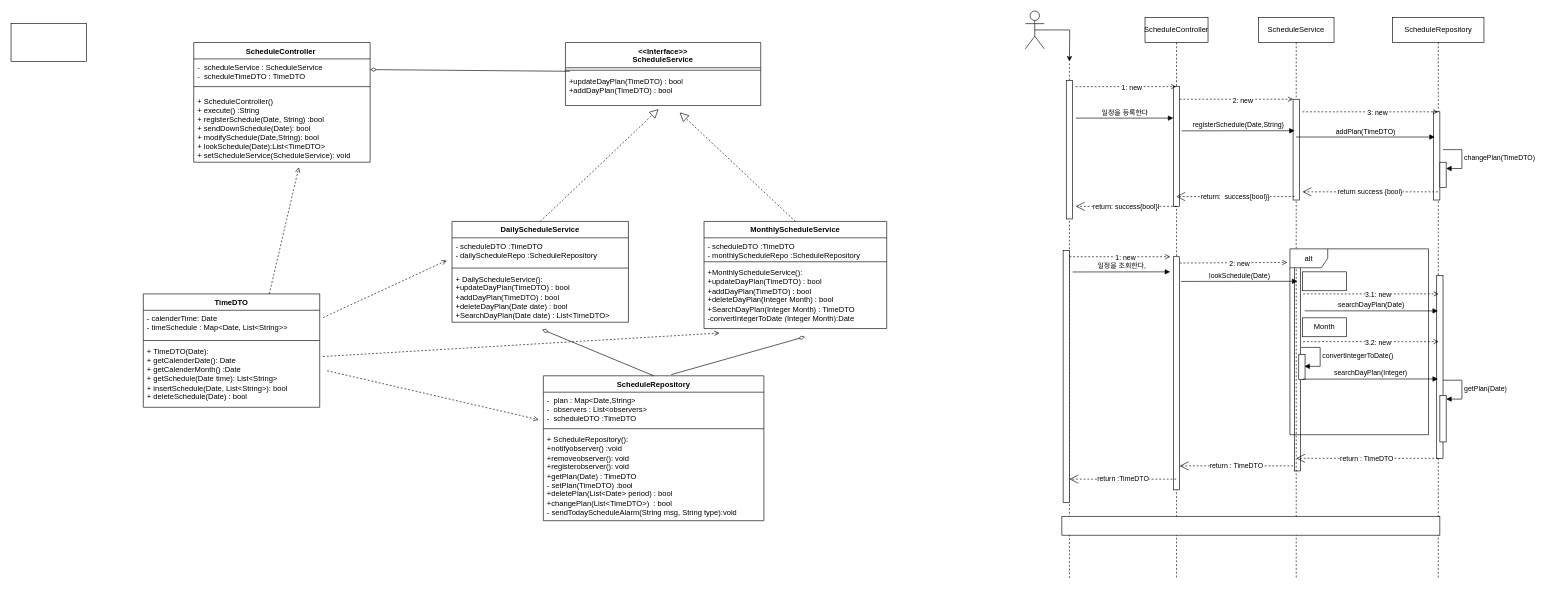
Some shapes in this 1547 by 590 pixel diagram are drawn without their labels. The centre of each missing label's shape, as x and y in pixels:
Day: the point at 1324,281
User: the point at 1034,29
일정 관리: the point at 48,42
일정 수정/삭제의 과정도 위와 유사한 과정으로 일어남.: the point at 1250,525
